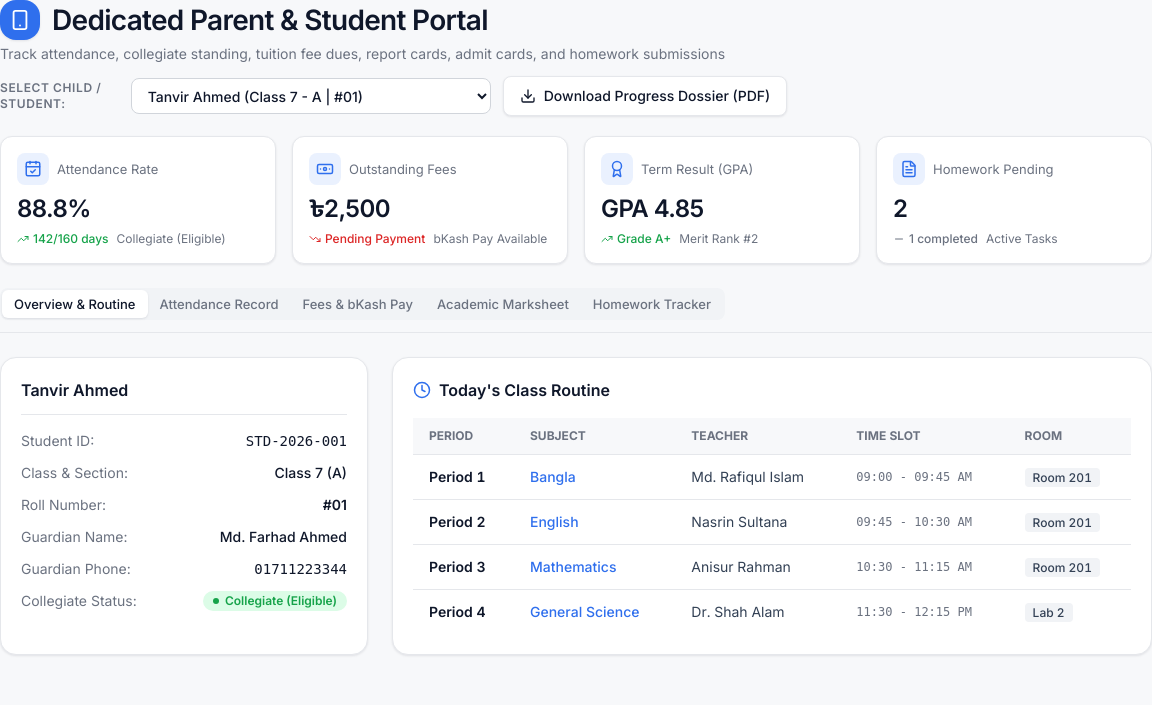
Test case: ParentPortal Component (Phase 20: Dedicated Parent & Student Portal) › submits homework solution via modal
// Switch to Homework Tracker tab
Click the button "Homework Tracker".
click(652, 304)  # box [581,290,723,318]
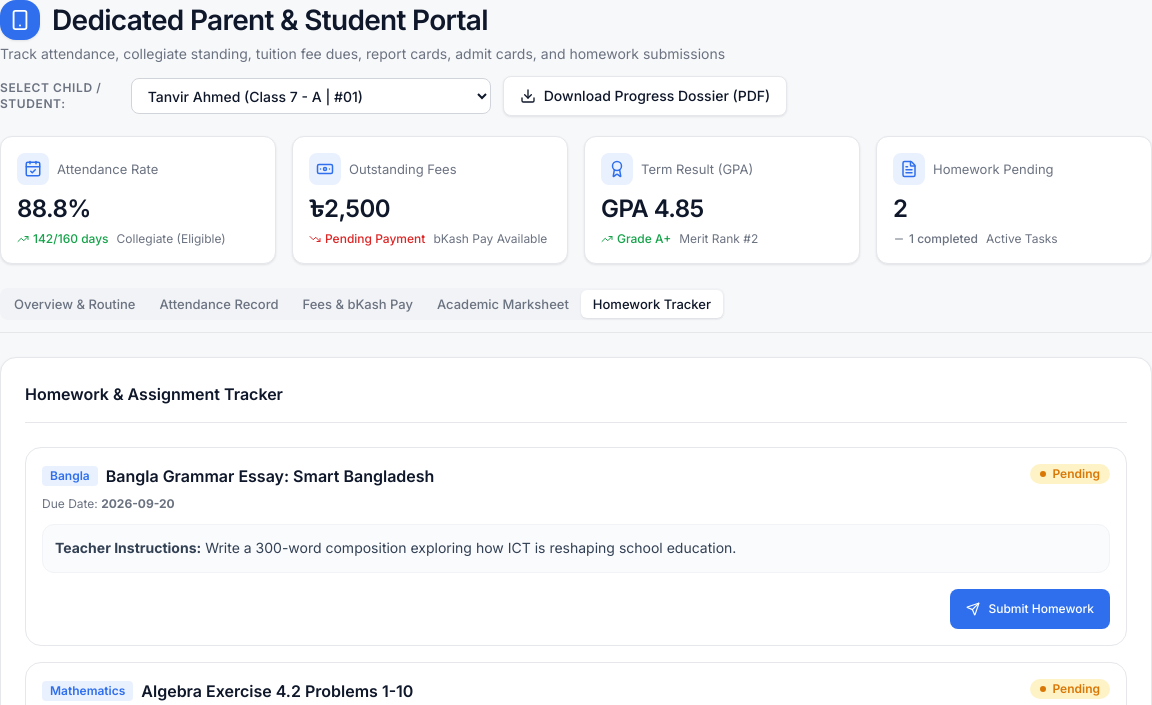
Click the button "Submit Homework".
click(1030, 609)  # box [950,589,1110,629]
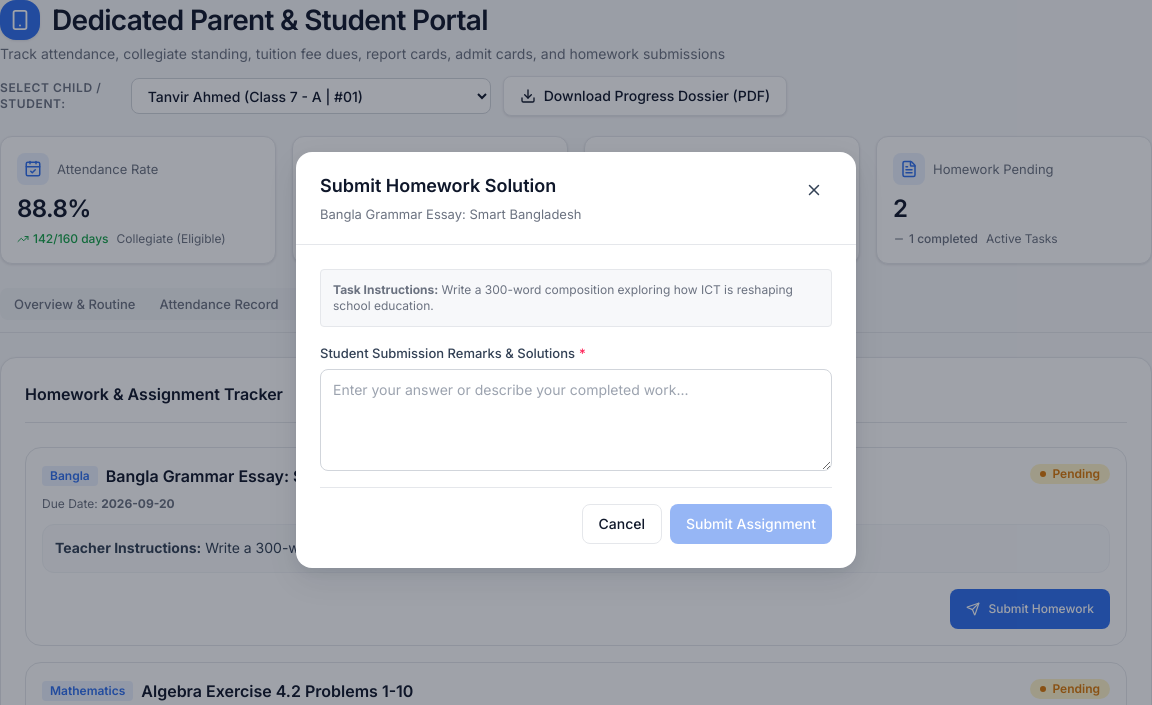
Expected: the text "Submit Homework Solution" is shown, [320,172,582,200]
Type "Detailed essay submitted in PDF format to class teacher." into the text box with placeholder "Enter your answer or describe your completed work...".
click(576, 420); type("Detailed essay submitted in PDF format to class teacher.")  # box [320,369,832,471]
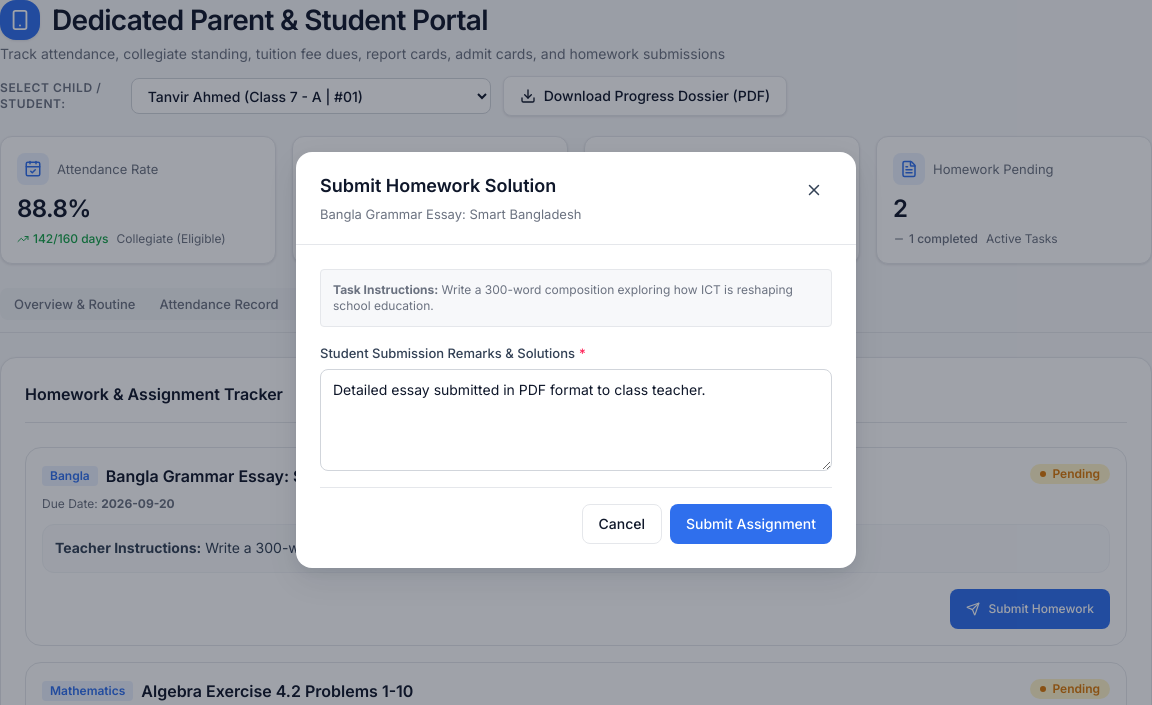
Click the button "Submit Assignment".
click(751, 524)  # box [670,504,832,544]
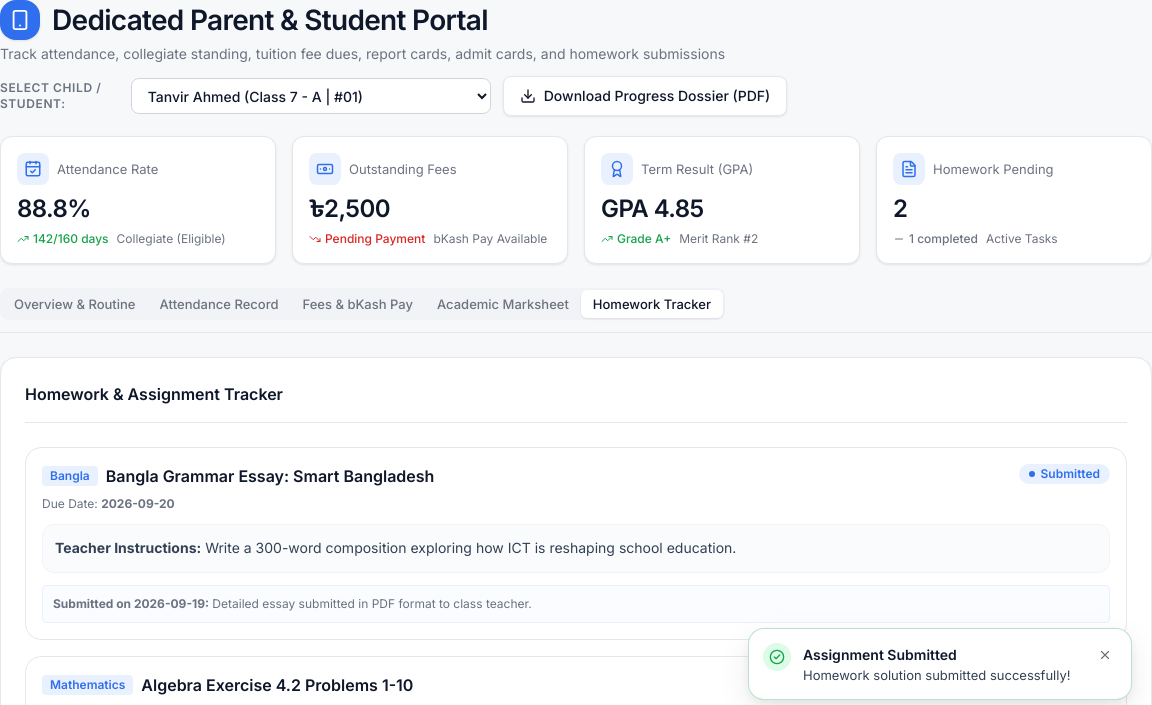
Expected: the text "Homework solution submitted successfully!" is shown, [803,665,1081,685]
